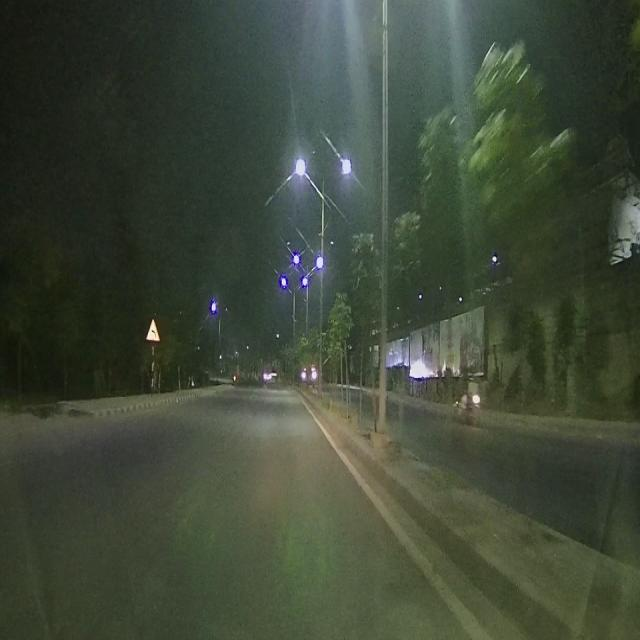left-hand-curve: (144, 316, 160, 340)
